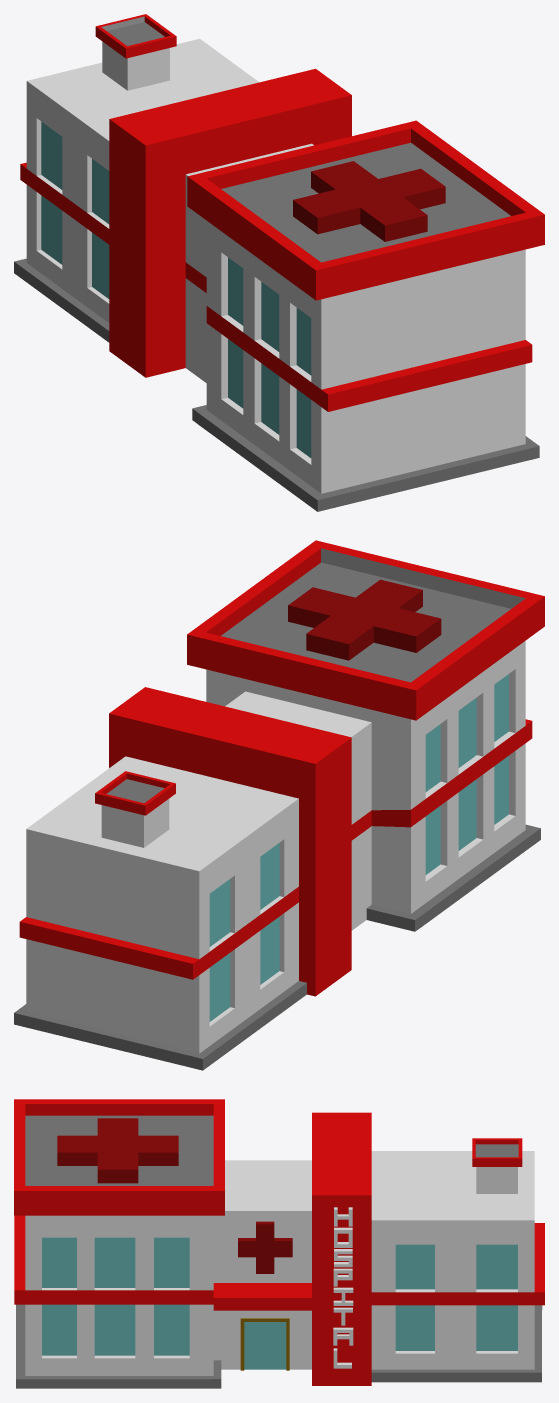
The model's file is msh_Hospital.fbx.
3 renders of one model, top to bottom at view 1: azimuth 30°, elevation 25°; view 2: azimuth 150°, elevation 25°; view 3: azimuth 270°, elevation 25°, orthographic. The views are drawn at different scales.
Visible parts, largest first — view 1: pCube24; view 2: pCube24; view 3: pCube24.
Boxes of the visible parts, <box> form: pCube24: <box>14,14,544,511</box>; pCube24: <box>14,540,544,1070</box>; pCube24: <box>14,1099,544,1388</box>.
Size of the model in its own units: 8.56 by 8.76 by 20.95.
